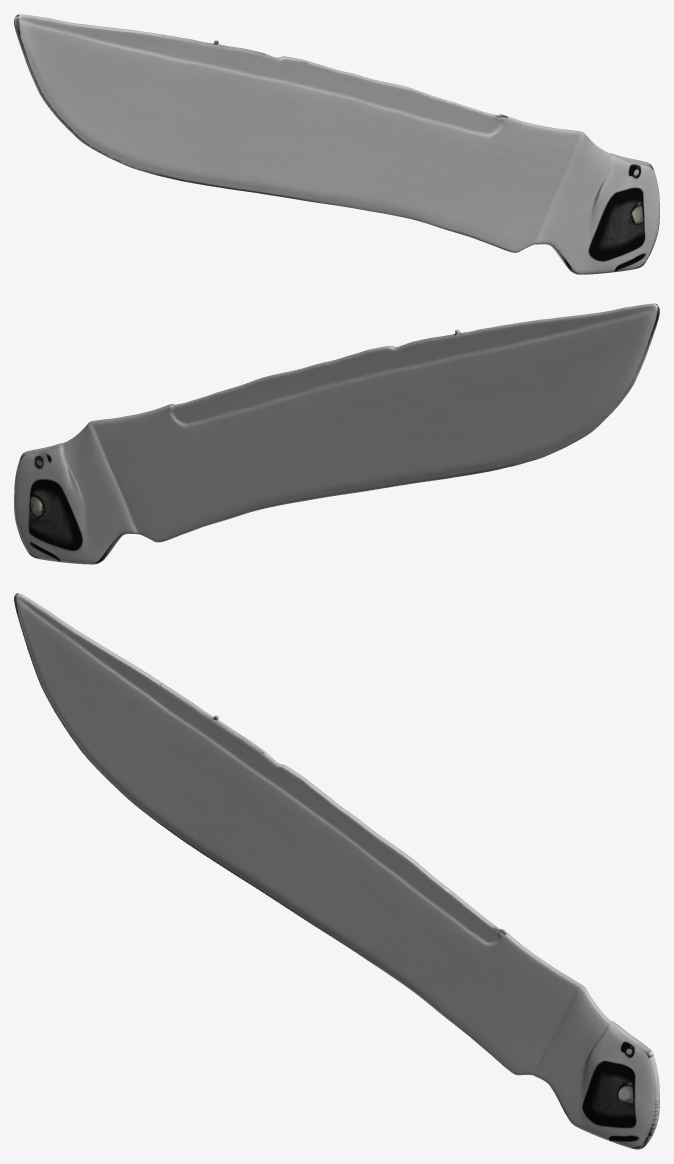
3 views of the same model, one above another, from view 1: azimuth 30°, elevation 25°; view 2: azimuth 150°, elevation 25°; view 3: azimuth 330°, elevation 25° (orthographic).
Visible parts, largest first — view 1: tripo_node_f959ceef-0b17-4b32-a3b5-ab255b65f1f9; view 2: tripo_node_f959ceef-0b17-4b32-a3b5-ab255b65f1f9; view 3: tripo_node_f959ceef-0b17-4b32-a3b5-ab255b65f1f9.
Part boxes in pixels (x1,y1,x2,y2): tripo_node_f959ceef-0b17-4b32-a3b5-ab255b65f1f9: (14, 14, 659, 274); tripo_node_f959ceef-0b17-4b32-a3b5-ab255b65f1f9: (14, 303, 659, 564); tripo_node_f959ceef-0b17-4b32-a3b5-ab255b65f1f9: (14, 593, 659, 1149).
Size of the model in its own units: 1 by 0.5985 by 0.0454.
Materials: 1 (1 with a texture image).
